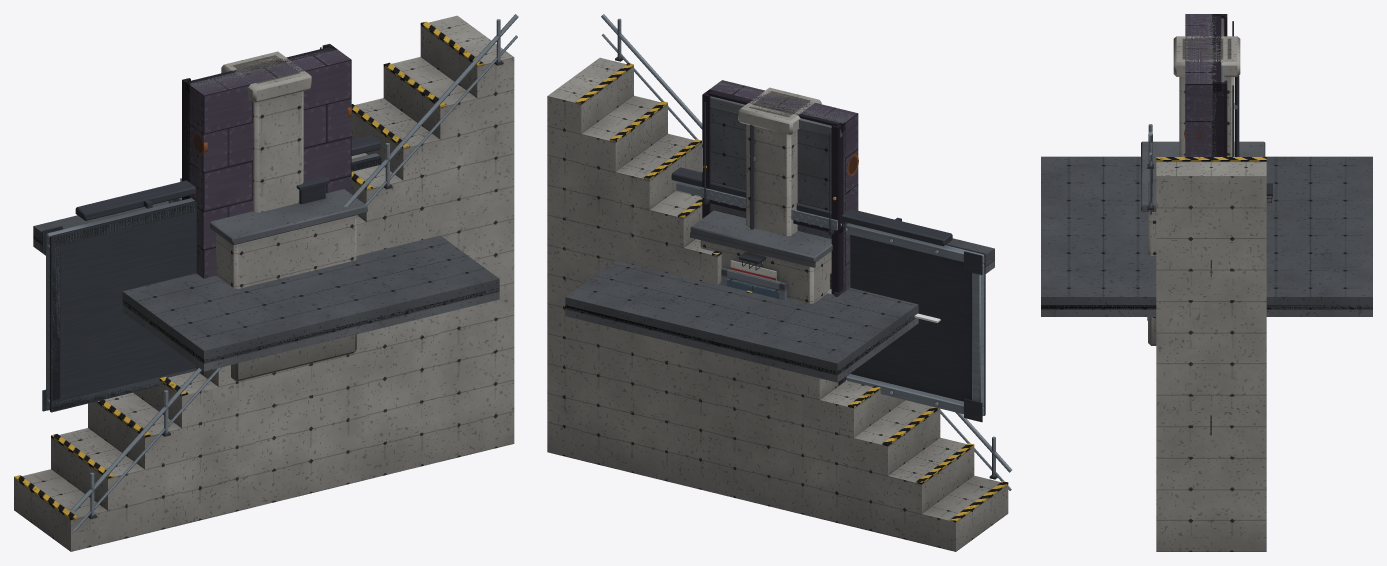
The model's file is Hideout.fbx.
3 views of the same model, side by side, from view 1: azimuth 30°, elevation 25°; view 2: azimuth 150°, elevation 25°; view 3: azimuth 270°, elevation 25° (orthographic). The views are drawn at different scales.
Visible parts, largest first — view 1: HideStairBody.001, HideCeilingBody.001, HideMapFrameBody.001, FoundryWallBody.001, HideStairHeadBody.001, HidePillarBody.001, HideWallBody.001, FoundryRugBody.001; view 2: HideStairBody.001, HideCeilingBody.001, HideMapFrameBody.001, HideStairHeadBody.001, HideWallBody.001, FoundryWallBody.001, HidePillarBody.001, HideRunBody.001, FoundryRugBody.001, HidePilasterBody.001; view 3: HideStairBody.001, HideCeilingBody.001, FoundryWallBody.001, HidePillarBody.001, HideStairHeadBody.001, HideWallBody.001, HidePilasterBody.001, FoundryRugBody.001.
Part boxes in pixels (<box>): HideStairBody.001: <box>14,14,518,551</box>; HideCeilingBody.001: <box>33,201,499,371</box>; HideMapFrameBody.001: <box>42,135,381,412</box>; FoundryWallBody.001: <box>182,44,351,375</box>; HideStairHeadBody.001: <box>168,176,367,381</box>; HidePillarBody.001: <box>221,51,311,212</box>; HideWallBody.001: <box>188,48,345,373</box>; FoundryRugBody.001: <box>33,235,498,362</box>; HideStairBody.001: <box>547,14,1011,551</box>; HideCeilingBody.001: <box>565,238,994,382</box>; HideMapFrameBody.001: <box>671,167,985,422</box>; HideStairHeadBody.001: <box>690,210,832,303</box>; HideWallBody.001: <box>710,82,853,381</box>; FoundryWallBody.001: <box>702,80,858,385</box>; HidePillarBody.001: <box>738,87,821,235</box>; HideRunBody.001: <box>700,102,858,234</box>; FoundryRugBody.001: <box>565,305,917,374</box>; HidePilasterBody.001: <box>746,92,813,116</box>; HideStairBody.001: <box>1147,124,1266,551</box>; HideCeilingBody.001: <box>1041,156,1372,316</box>; FoundryWallBody.001: <box>1185,14,1228,156</box>; HidePillarBody.001: <box>1173,36,1240,156</box>; HideStairHeadBody.001: <box>1141,141,1272,345</box>; HideWallBody.001: <box>1190,14,1224,156</box>; HidePilasterBody.001: <box>1186,36,1227,61</box>; FoundryRugBody.001: <box>1041,305,1372,308</box>.
Bounding box in the file's own units: 36.2 × 33.52 × 24.
Materials: 16 (16 with a texture image).
